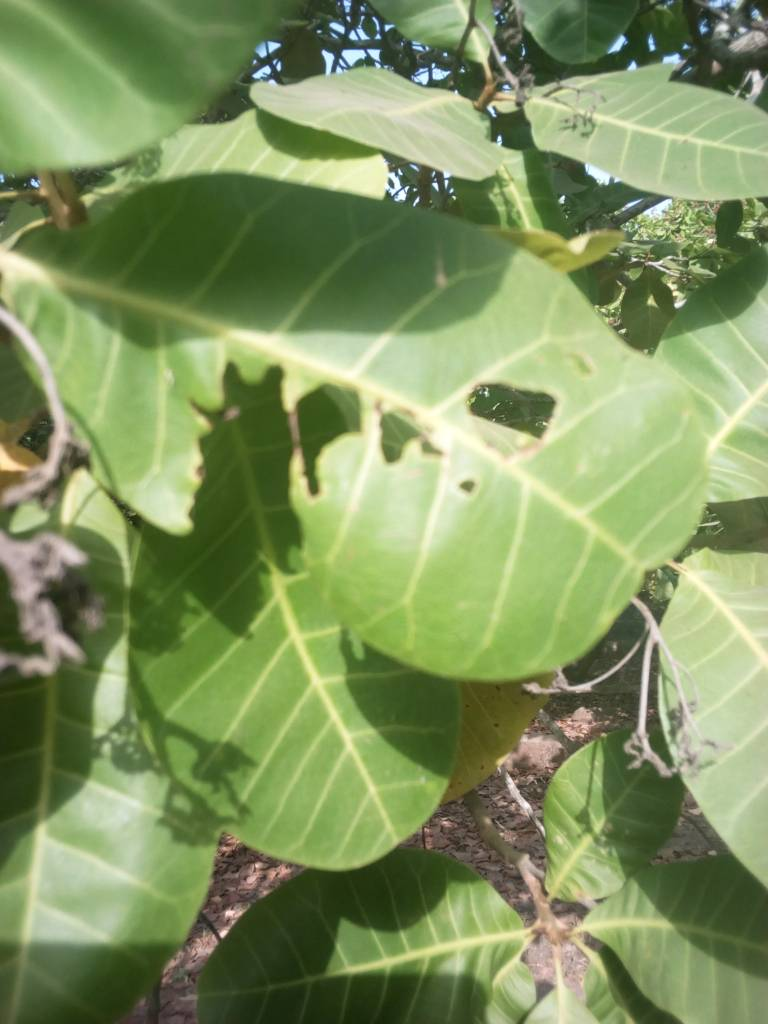Anoplonemis curvipes: (86, 264, 633, 586)
